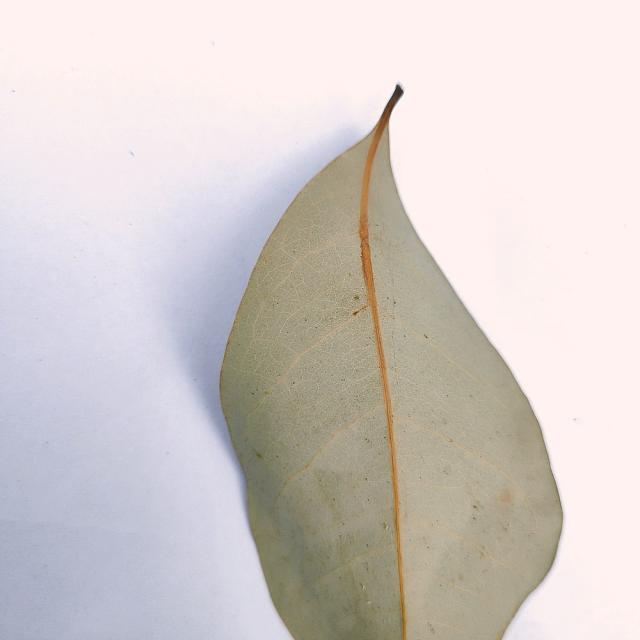Dry_Leaf-Lychee: (218, 88, 564, 639)
